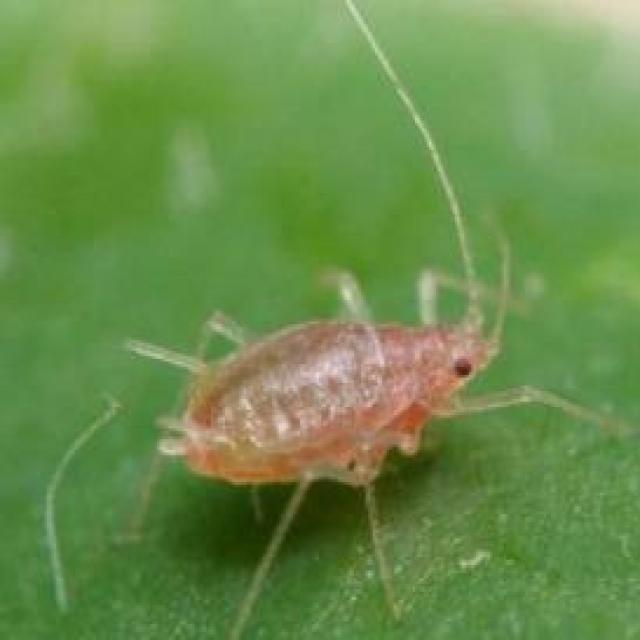Aphids: (43, 89, 604, 609)
